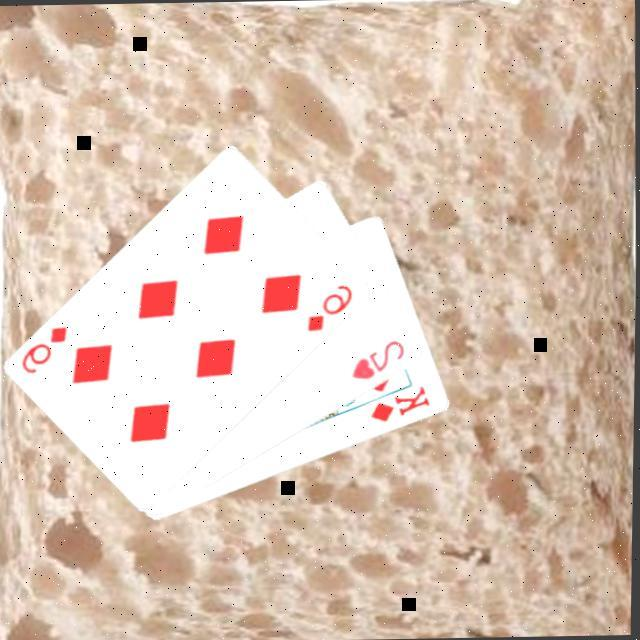2H: (346, 335, 408, 382)
6D: (16, 321, 70, 376), (302, 280, 356, 333)
KD: (365, 381, 433, 424)
